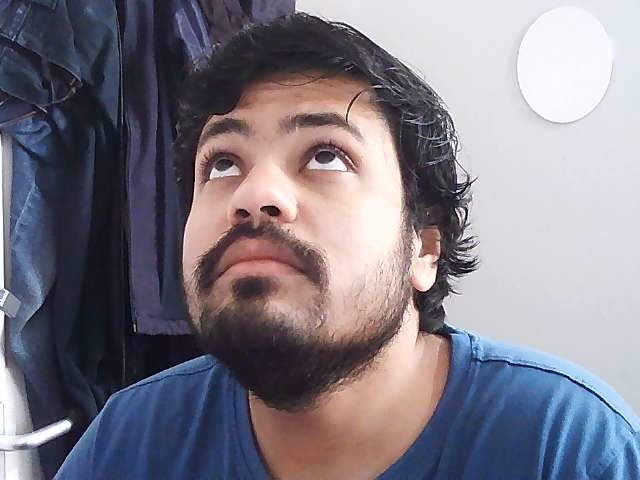Face: (162, 16, 499, 407)
